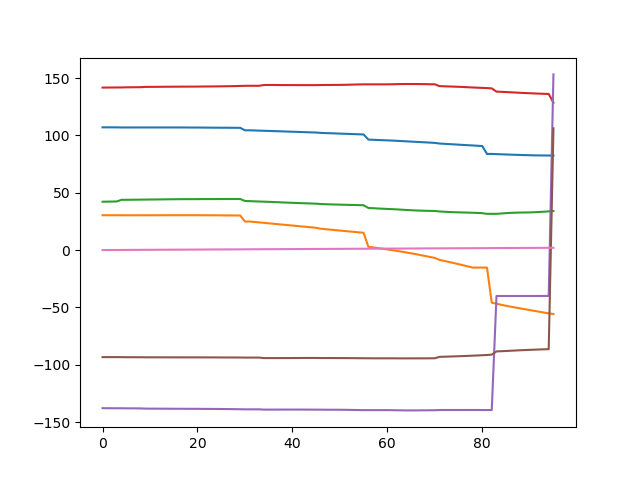Good_Bicep_Curl: (1, 2, 640, 479)
